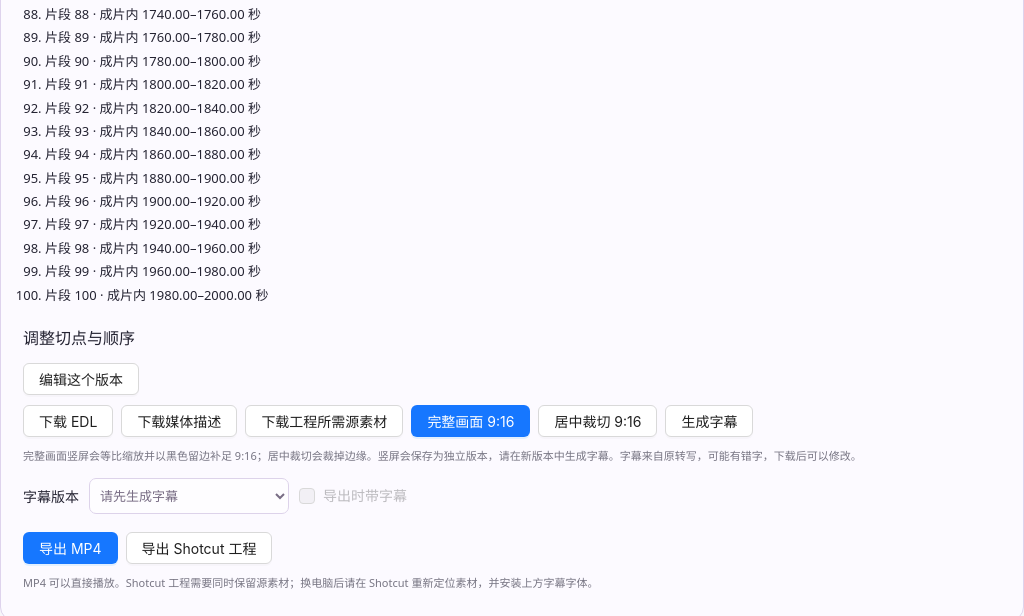
Scenario: export workbench › blocks additions exceeding the editable clip limit until enough clips are removed
(page scrolled)
Click the button "编辑这个版本" at {"x": 81, "y": 379}, box [23, 363, 139, 395]
(page scrolled)
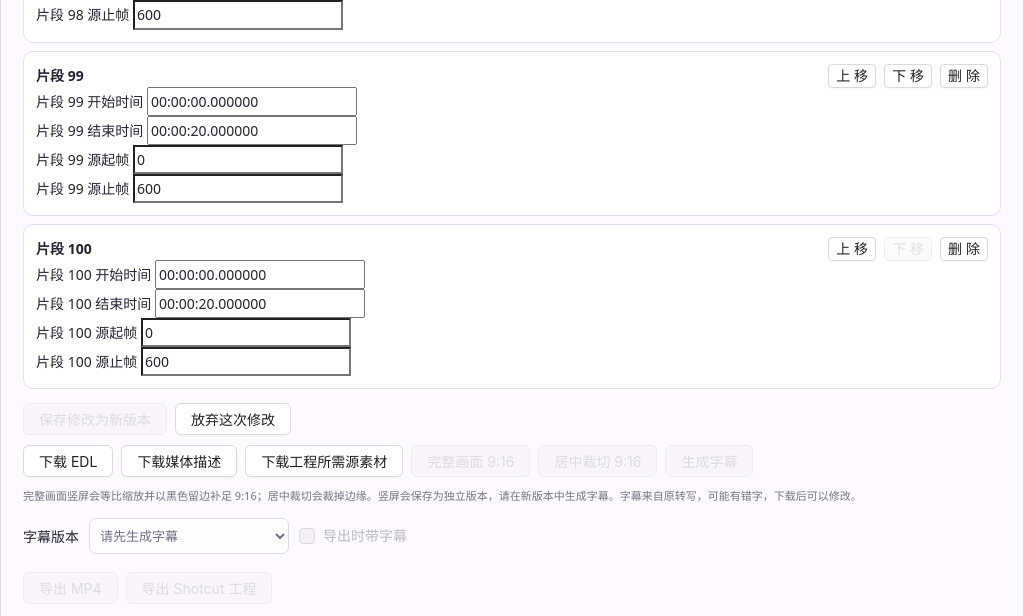
Click the button named "删除编辑片段 100" at {"x": 964, "y": 249}, box [940, 237, 988, 261]
(page scrolled)
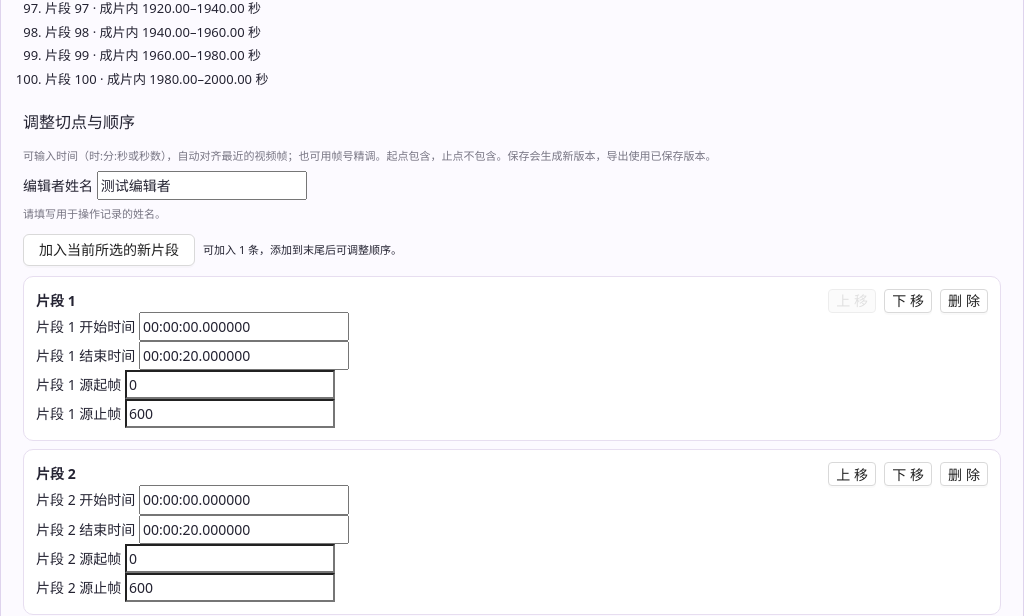
Now the button "加入当前所选的新片段" is enabled
Click the button "加入当前所选的新片段" at {"x": 109, "y": 250}, box [23, 234, 195, 266]
(page scrolled)
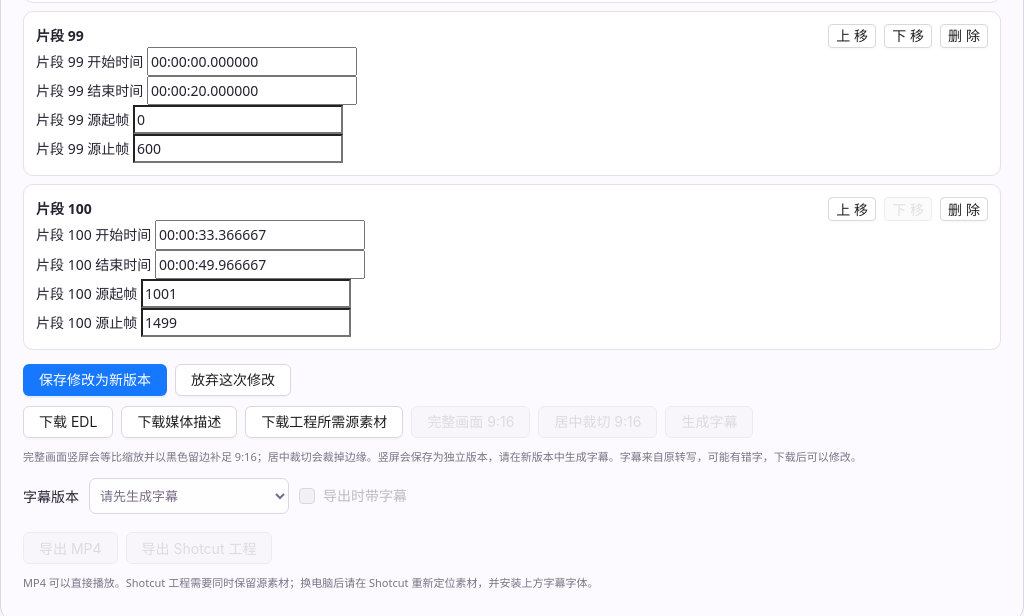
Now the number field labelled "片段 100 源起帧" holds "1001", box [141, 279, 351, 308]
